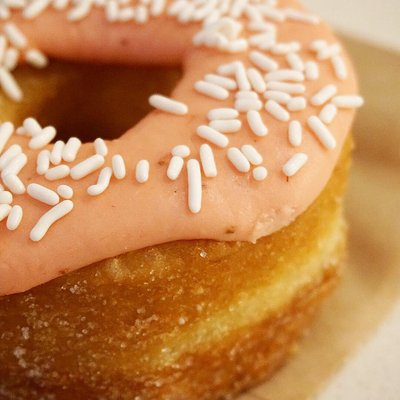salad: (0, 1, 360, 285)
sushi: (1, 0, 363, 398)
